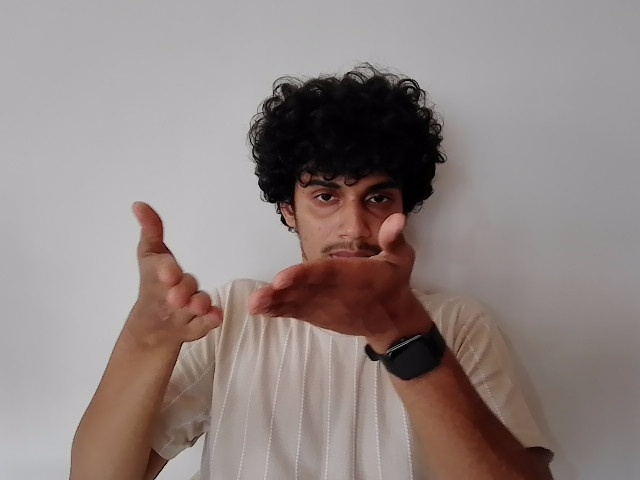here: (120, 199, 418, 342)
